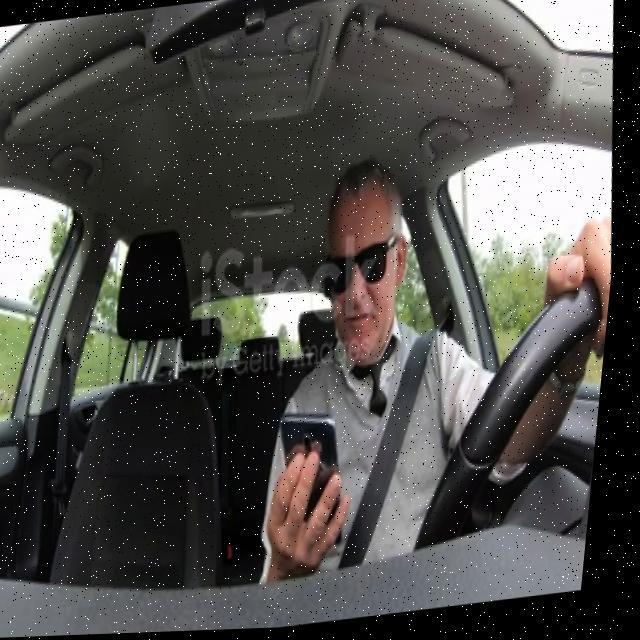PhoneCall: (279, 408, 364, 554)
